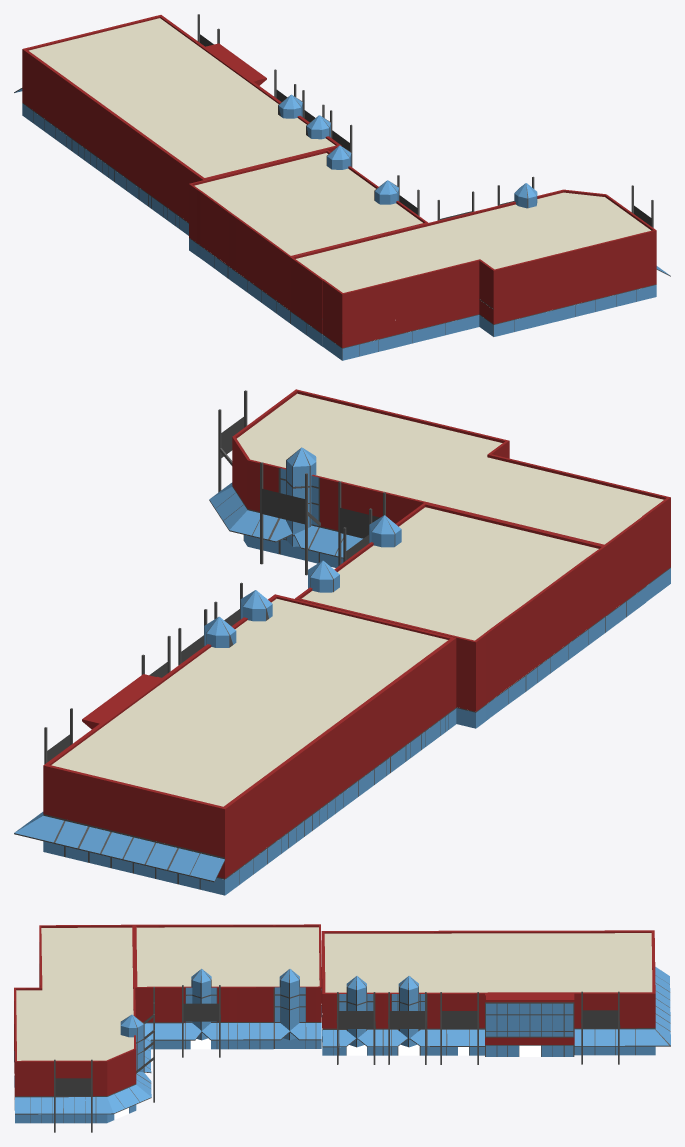
Rendered from sanders_WBv7.glb.
3 renders of one model, top to bottom at view 1: azimuth 30°, elevation 25°; view 2: azimuth 150°, elevation 25°; view 3: azimuth 270°, elevation 25°, orthographic. The views are drawn at different scales.
Visible parts, largest first — view 1: 279815744; view 2: 279815744; view 3: 279815744.
Boxes of the visible parts, left/top/right/bottom form: 279815744: left=14, top=14, right=670, bottom=360; 279815744: left=14, top=389, right=670, bottom=895; 279815744: left=14, top=924, right=670, bottom=1132.
Bounding box in the file's own units: 263 × 66.73 × 502.
